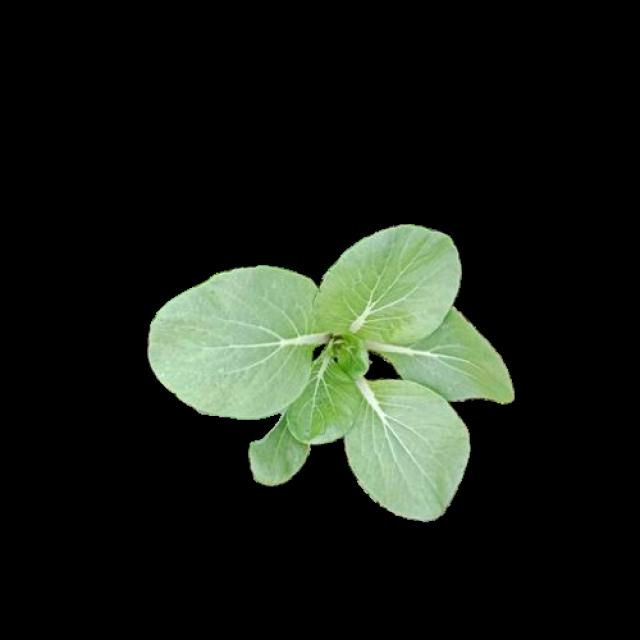healthy: (146, 223, 512, 517)
not-mature: (148, 225, 514, 520)
